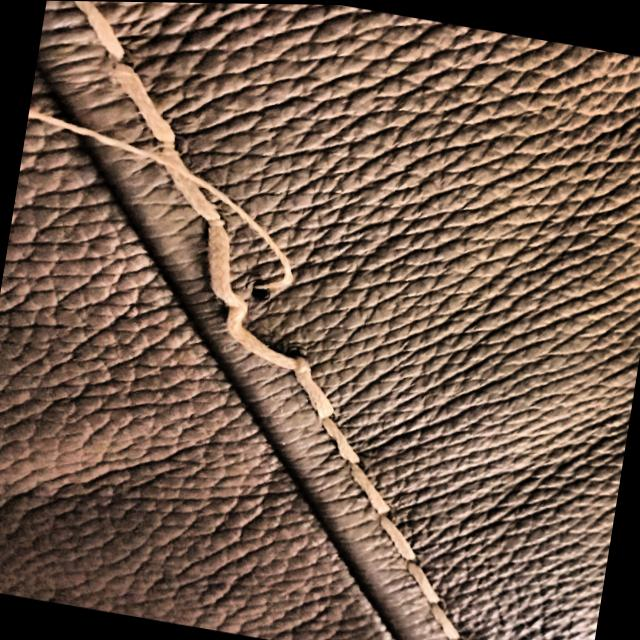Stitch: (63, 74, 353, 450)
